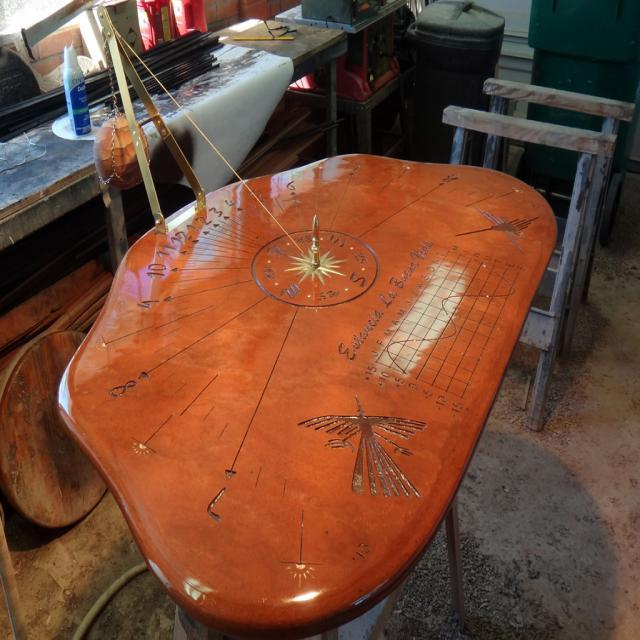chair: (442, 0, 639, 434)
desk: (62, 150, 560, 639)
